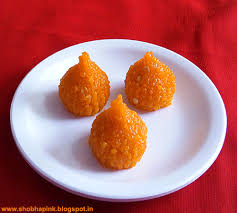modak: (89, 97, 154, 173), (55, 46, 112, 116), (121, 54, 180, 108)
